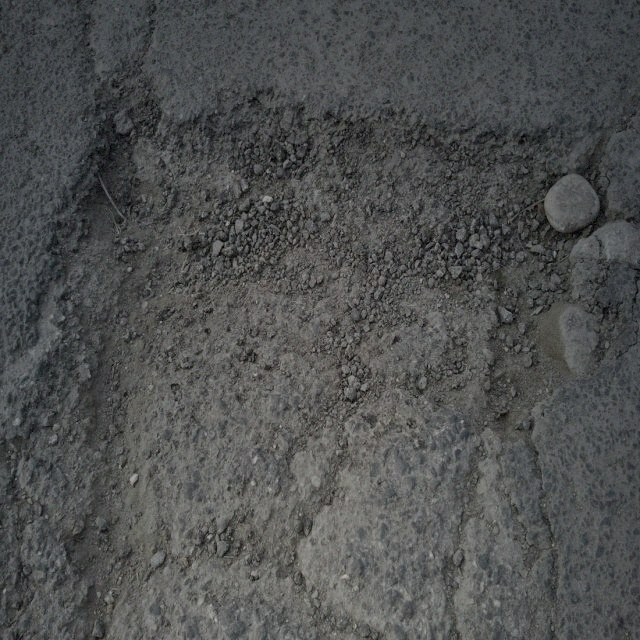pothole: (58, 86, 607, 487)
